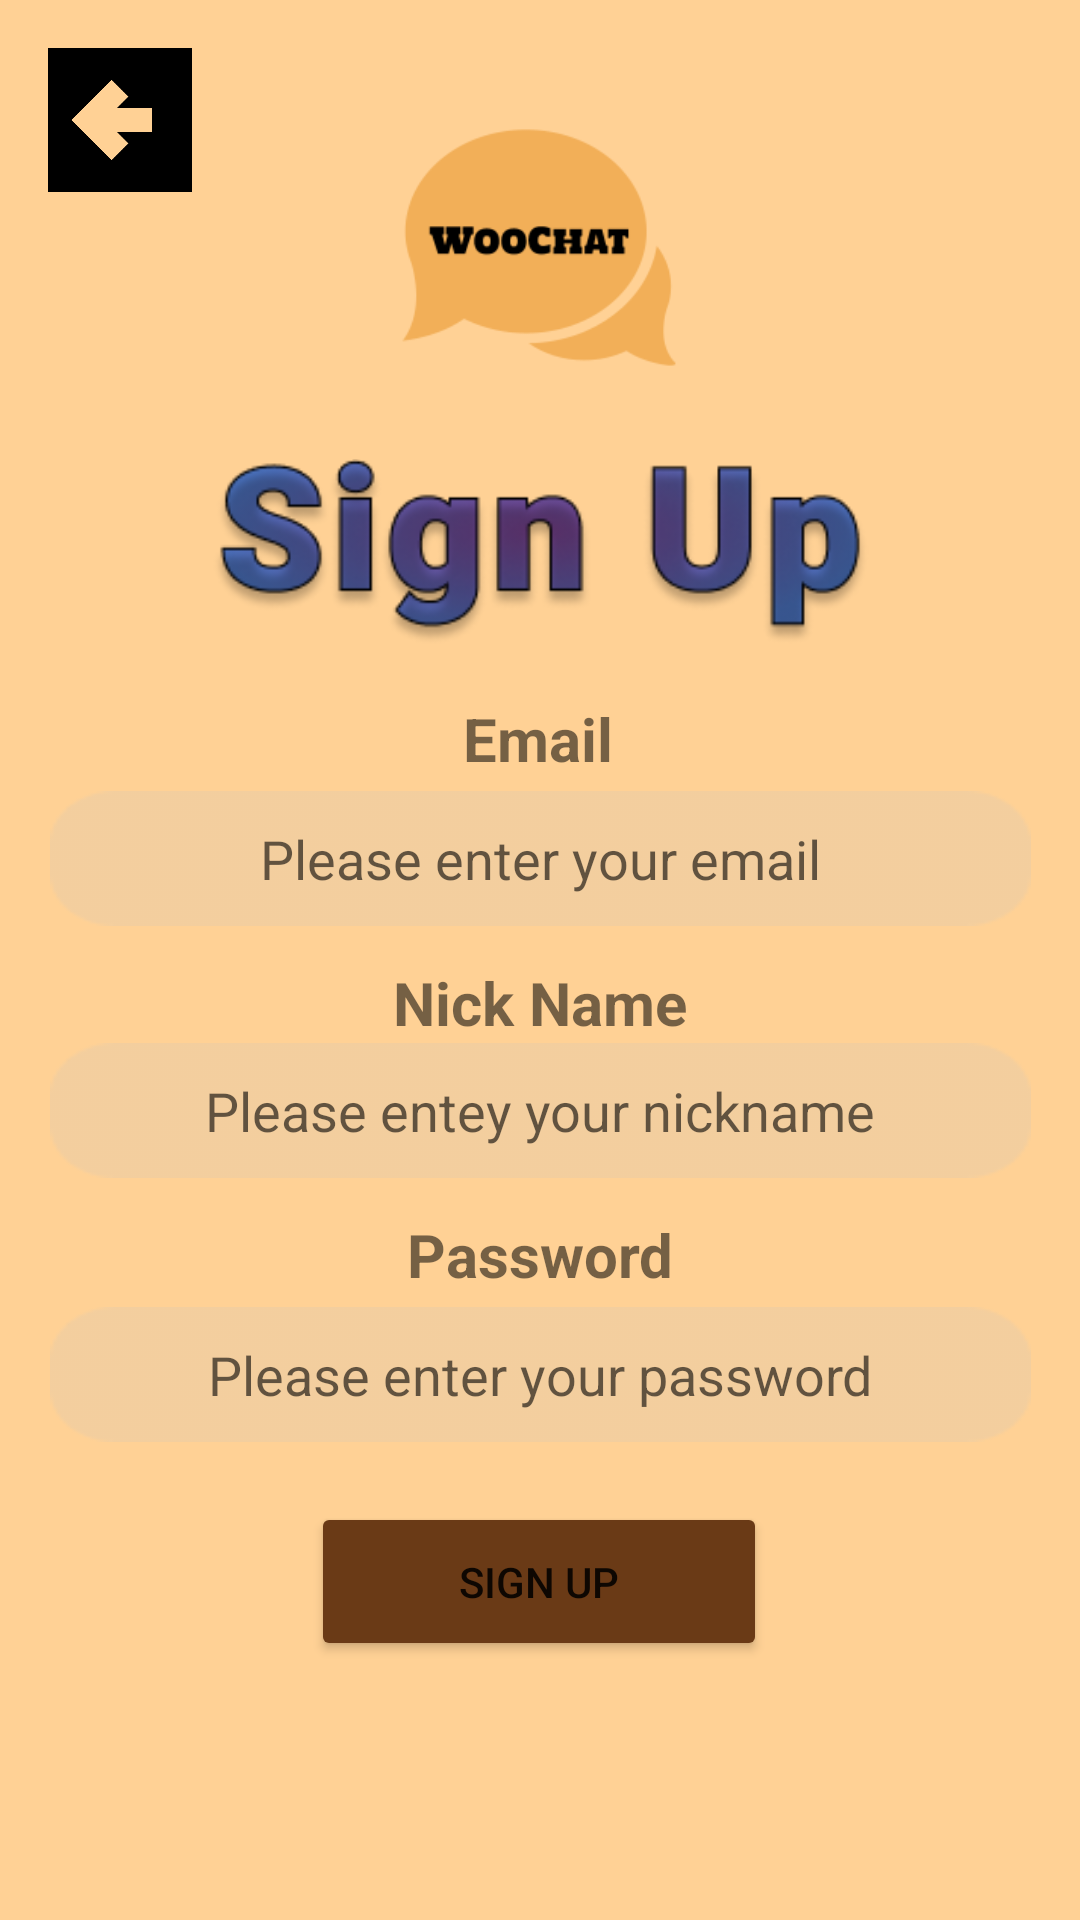

Locate icon controls on the screen. Image size 1080 × 1920, boxes as Rect(x1, y1, x2, y2).
back arrow: Rect(48, 48, 192, 192)
